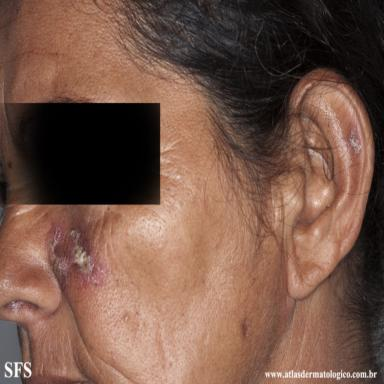Lupus-Erythematosus-Chronicus-Discoides: (48, 227, 104, 288)
